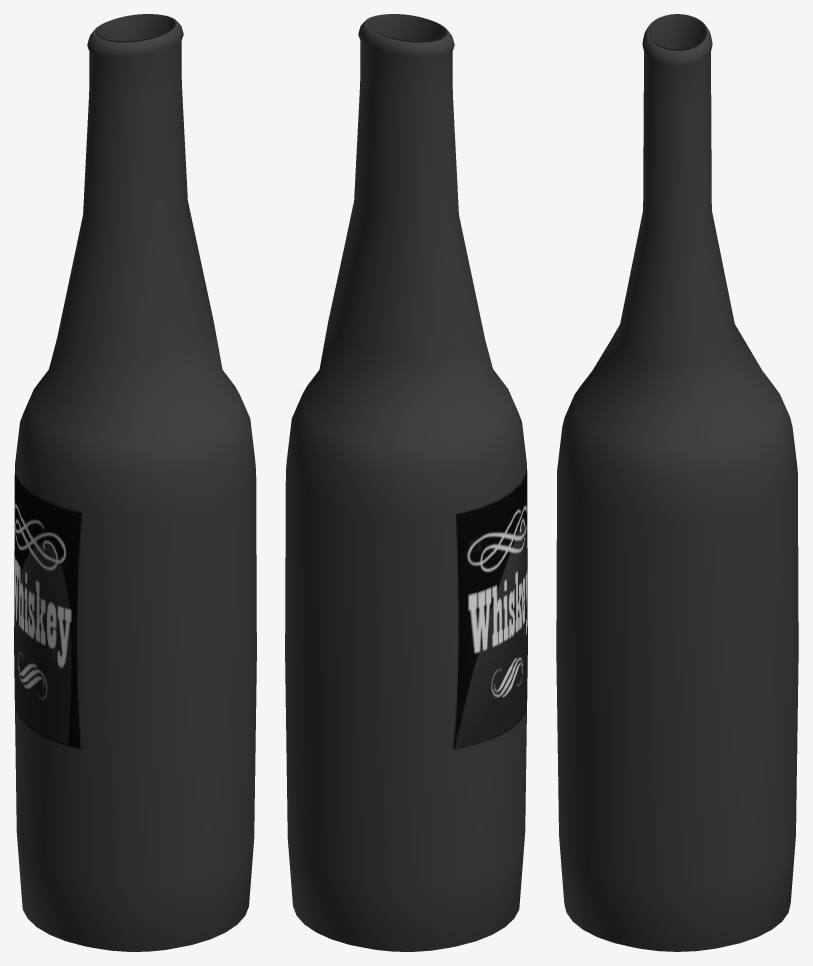
File: Botella_2.fbx
3 renders of one model, left to right at view 1: azimuth 30°, elevation 25°; view 2: azimuth 150°, elevation 25°; view 3: azimuth 270°, elevation 25°, orthographic.
Visible parts, largest first — view 1: revolvedSurface2; view 2: revolvedSurface2; view 3: revolvedSurface2.
Part boxes in pixels (bbox=[...]): revolvedSurface2: bbox=[14, 14, 256, 951]; revolvedSurface2: bbox=[285, 14, 527, 951]; revolvedSurface2: bbox=[556, 14, 798, 951].
Bounding box in the file's own units: 13.82 × 55.78 × 13.82.
1 material, 1 textured.
